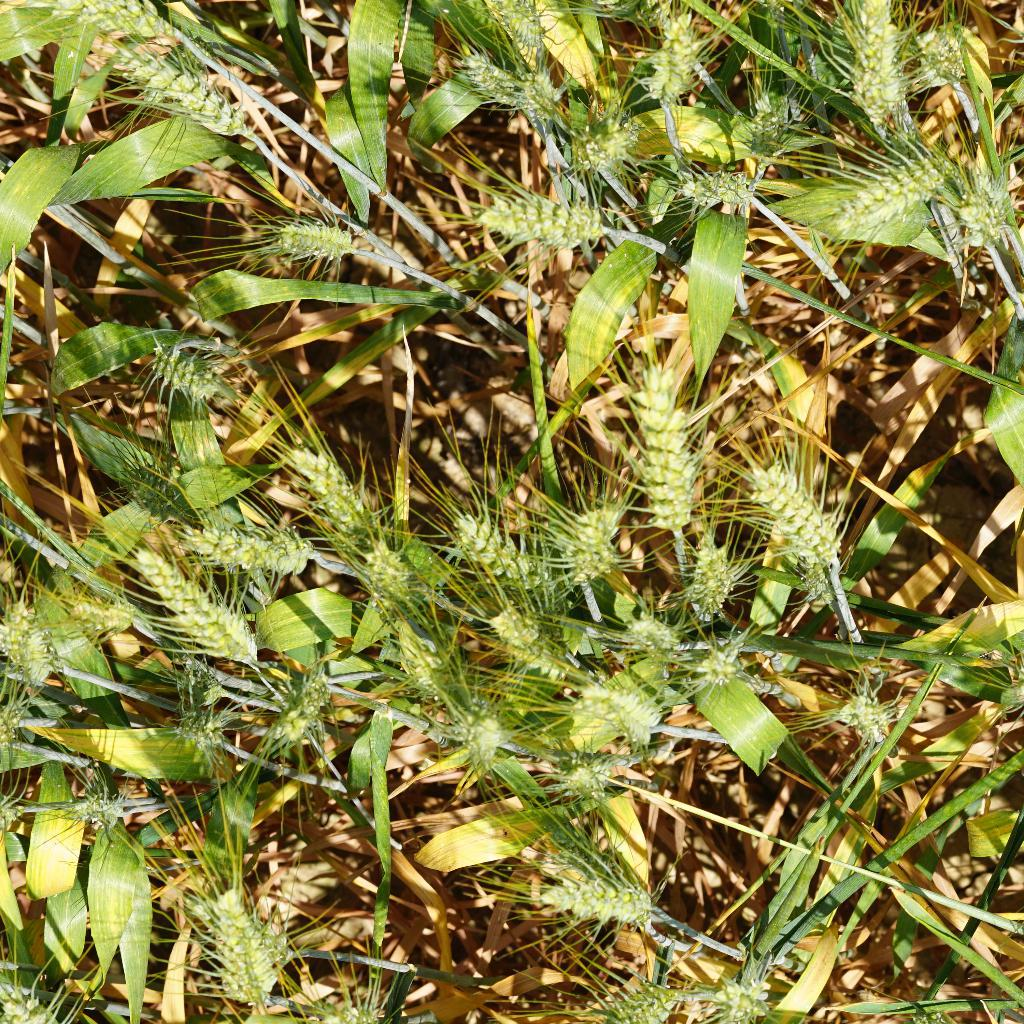0-0: (118, 530, 269, 681), (97, 32, 271, 141), (612, 358, 712, 541), (193, 867, 295, 1012), (817, 139, 933, 249), (462, 176, 609, 254), (739, 462, 843, 571), (174, 514, 329, 583), (54, 2, 211, 67), (441, 503, 546, 597), (271, 441, 370, 539), (254, 200, 381, 273), (538, 873, 662, 938), (574, 666, 669, 748), (262, 657, 335, 755), (134, 337, 228, 413), (851, 0, 909, 122), (533, 811, 621, 891), (589, 964, 699, 1024), (550, 492, 616, 585), (49, 766, 148, 826), (0, 601, 60, 698), (828, 673, 899, 754), (643, 14, 701, 112), (949, 167, 1024, 239), (387, 626, 470, 691), (463, 48, 537, 119), (735, 78, 799, 157), (569, 112, 637, 182), (489, 613, 568, 673), (679, 161, 766, 215), (111, 444, 182, 508), (0, 979, 98, 1024), (361, 549, 428, 612), (458, 2, 543, 51), (164, 694, 227, 758), (683, 538, 733, 616), (561, 754, 619, 814), (159, 661, 230, 710), (923, 26, 974, 94), (77, 585, 133, 641), (786, 558, 842, 614), (698, 636, 752, 694), (456, 709, 515, 762), (718, 971, 769, 1024), (623, 615, 680, 661)
